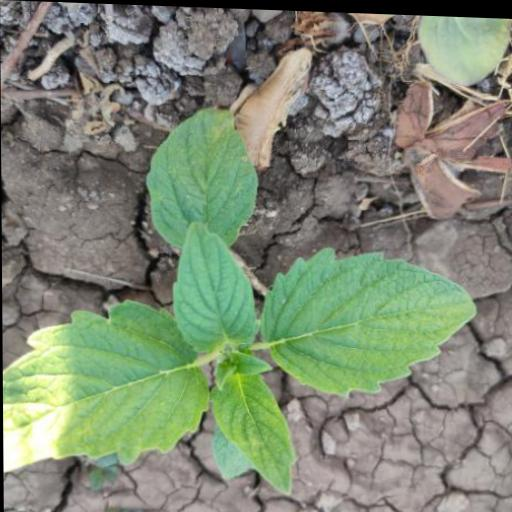crop: (1, 97, 475, 512)
